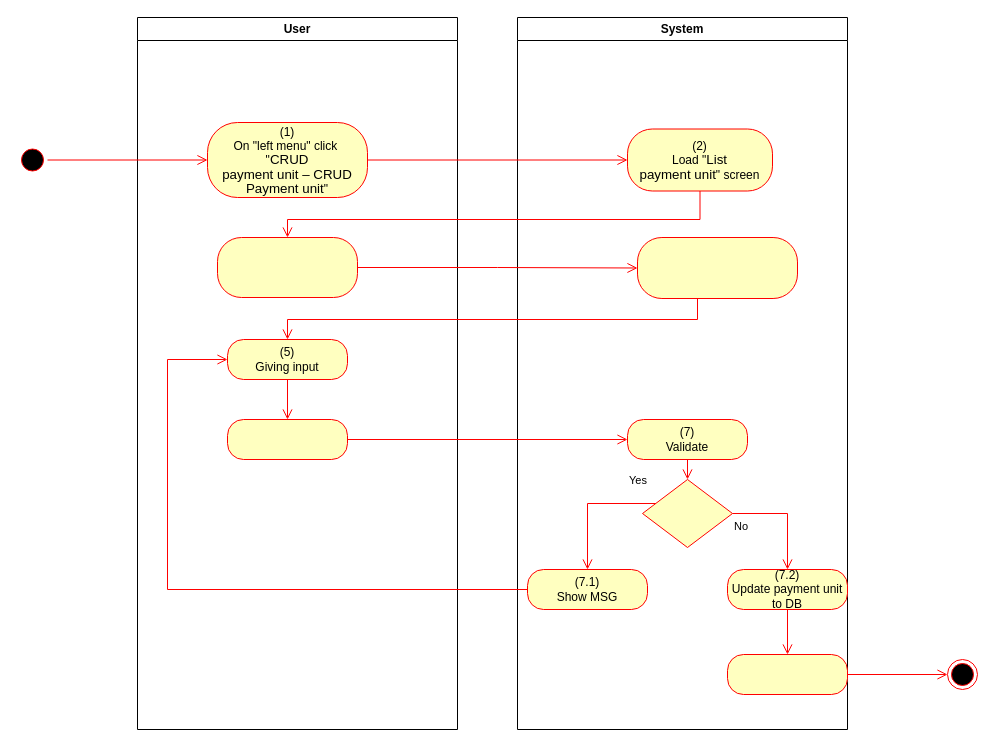
Some shapes in this 995 by 747 pixel diagram are drawn without their labels. Each missing label, with the centre of its shape:
(3) Click button "Chỉnh sửa" trên 1 item đơn vị thanh toán bất kỳ: the point at 287,267
(4) Load " CRUD Payment Unit Form ": the point at 717,267
(6) Click "Lưu": the point at 287,439
(8) Update UI: the point at 787,674
